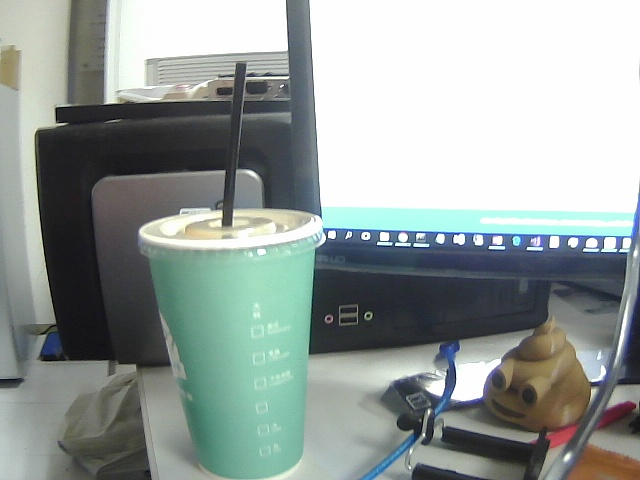beverage: (123, 56, 379, 480)
